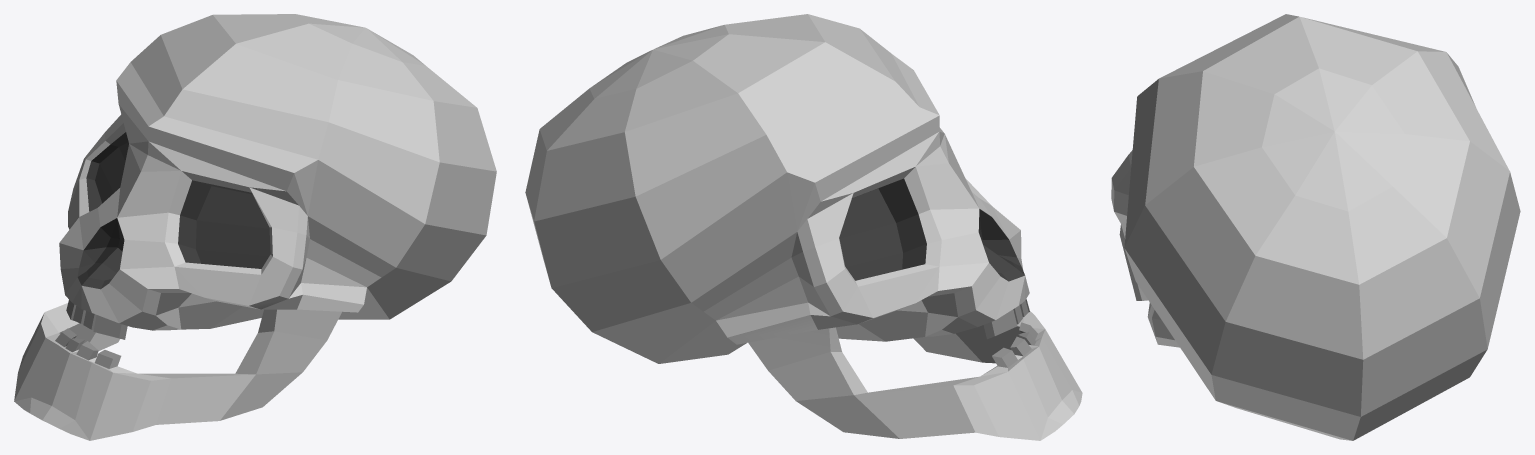
Rendered from Skull_05.fbx.
The picture shows the model from 3 angles, left to right: view 1: azimuth 30°, elevation 25°; view 2: azimuth 150°, elevation 25°; view 3: azimuth 270°, elevation 25°; orthographic projection. The views are drawn at different scales.
Parts seen in each view (by area): view 1: Skull_02; view 2: Skull_02; view 3: Skull_02.
Boxes of the visible parts, x1,y1,x2,y2 form: Skull_02: [14, 14, 496, 440]; Skull_02: [525, 14, 1082, 440]; Skull_02: [1111, 14, 1520, 440].
Size of the model in its own units: 35.62 by 23.06 by 24.02.
